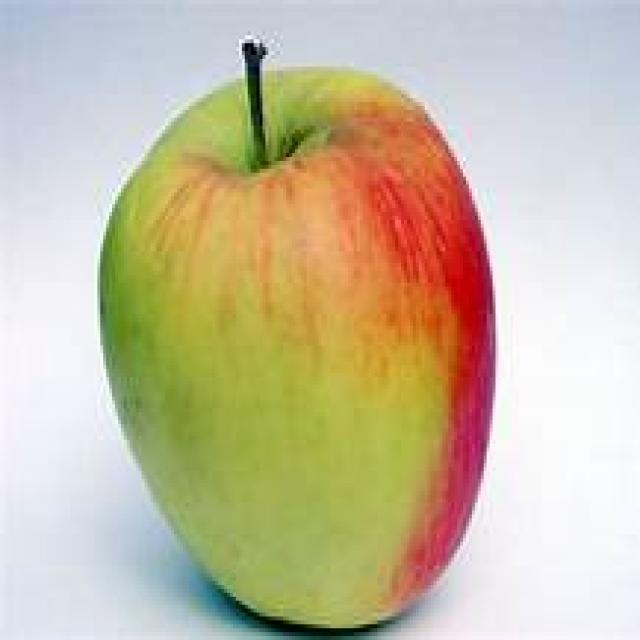apple: (96, 41, 497, 632)
